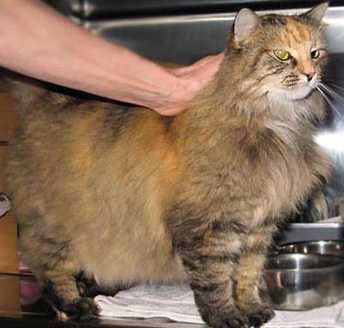Cat: (10, 3, 329, 302)
